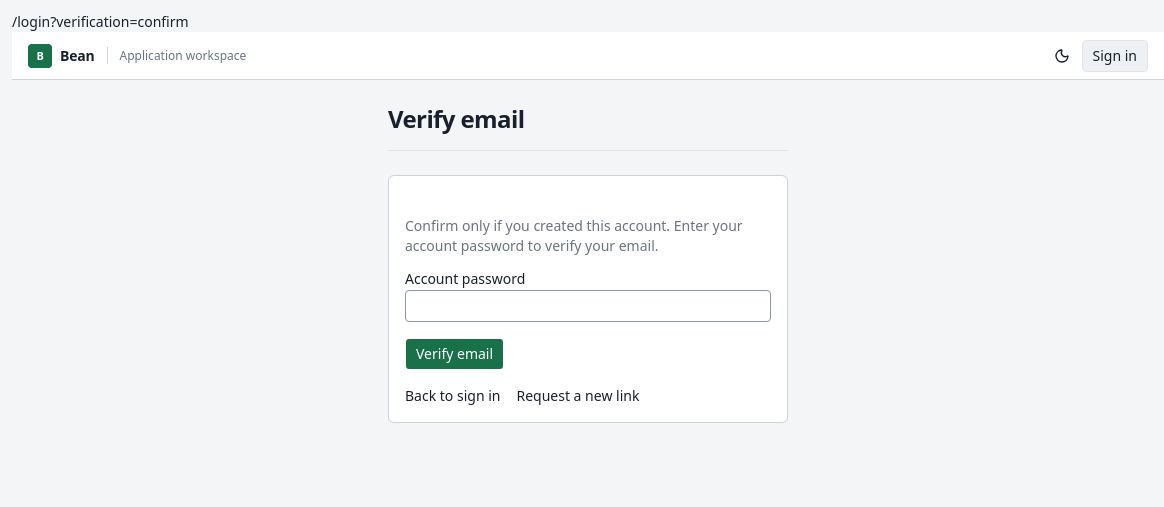
Scenario: requires the account password for explicit email confirmation, not merely a link visit
Type "account-password" into the password field labelled "Account password" at coordinates (588, 306), box [405,290,771,322]
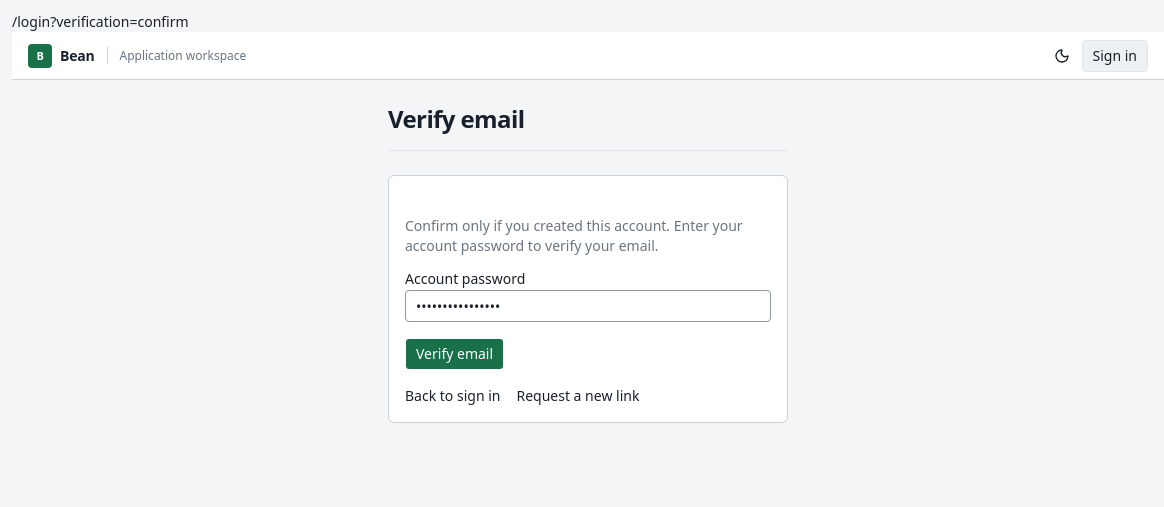
Click the button "Verify email" at coordinates (455, 354), box [405,338,504,370]
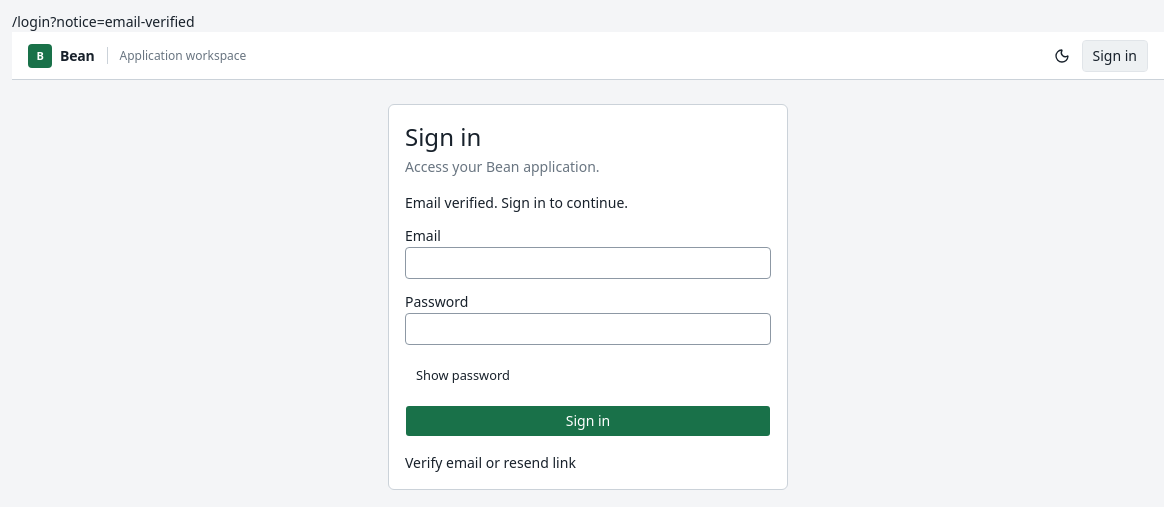
Check: the heading "Sign in" is shown, box [405,120,481,153]
Check: the message reads "Email verified. Sign in to continue.", box [405,193,628,212]
